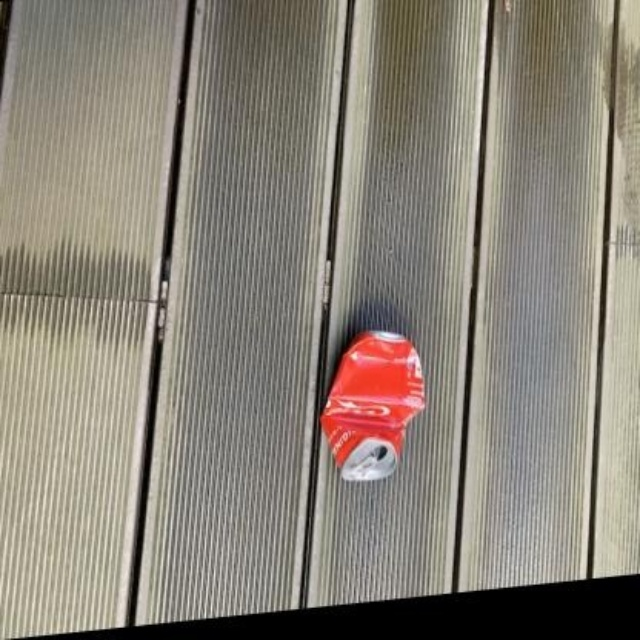trash: (320, 331, 423, 480)
